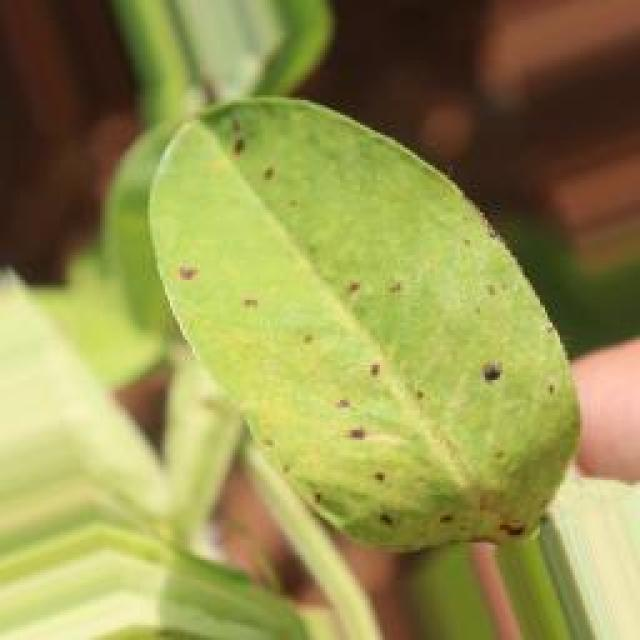Sigatoka: (457, 270, 570, 412), (182, 90, 288, 192), (336, 261, 422, 317), (434, 489, 534, 532), (328, 336, 392, 399), (223, 276, 286, 334), (328, 381, 374, 458), (463, 342, 517, 390), (264, 182, 330, 221), (158, 256, 220, 296), (368, 503, 427, 543), (277, 306, 329, 349), (366, 451, 402, 505)
